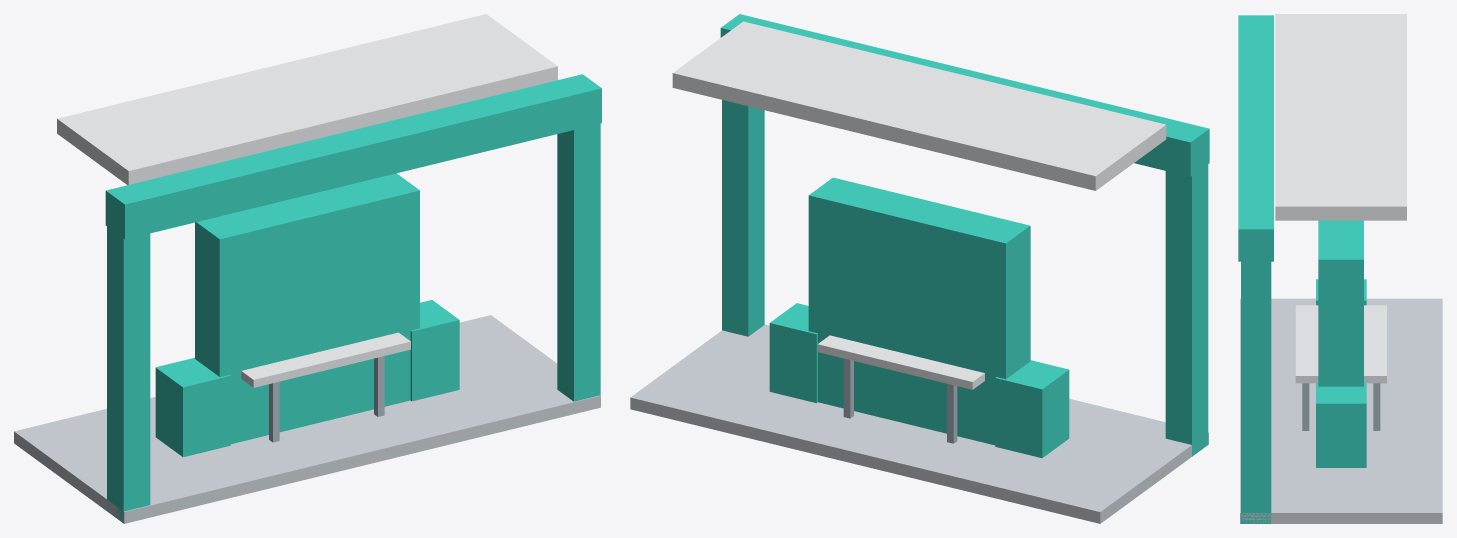
3 views of the same model, side by side, from view 1: azimuth 30°, elevation 25°; view 2: azimuth 150°, elevation 25°; view 3: azimuth 270°, elevation 25° (orthographic). The views are drawn at different scales.
Parts seen in each view (by area): view 1: Exhibition Booth Concept; view 2: Exhibition Booth Concept; view 3: Exhibition Booth Concept.
Boxes of the visible parts, x1,y1,x2,y2 form: Exhibition Booth Concept: (14,14,601,523); Exhibition Booth Concept: (630,14,1209,523); Exhibition Booth Concept: (1238,14,1442,523).
Bounding box in the file's own units: 5 × 3.34 × 2.01.
